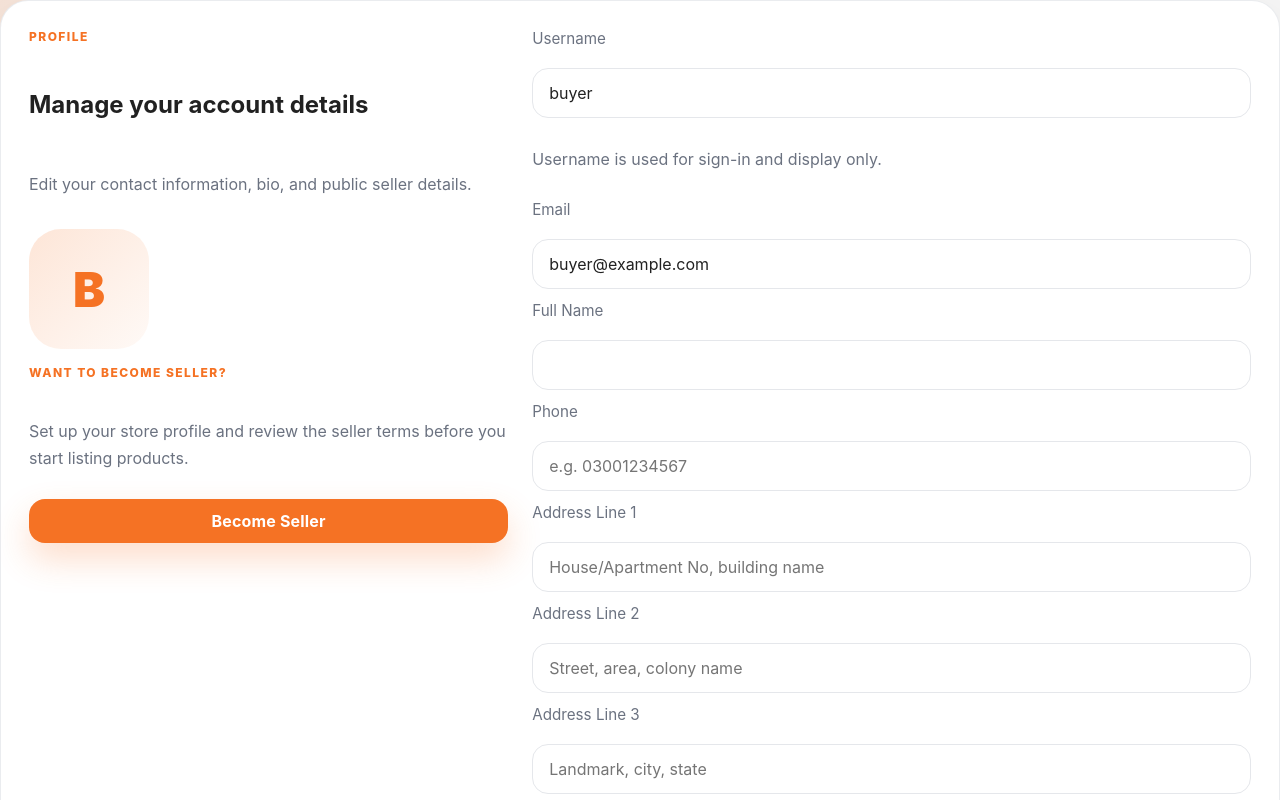
it: opens a seller onboarding modal with detailed fields
Click the button "Become Seller": (269, 521) [29,499,508,543]
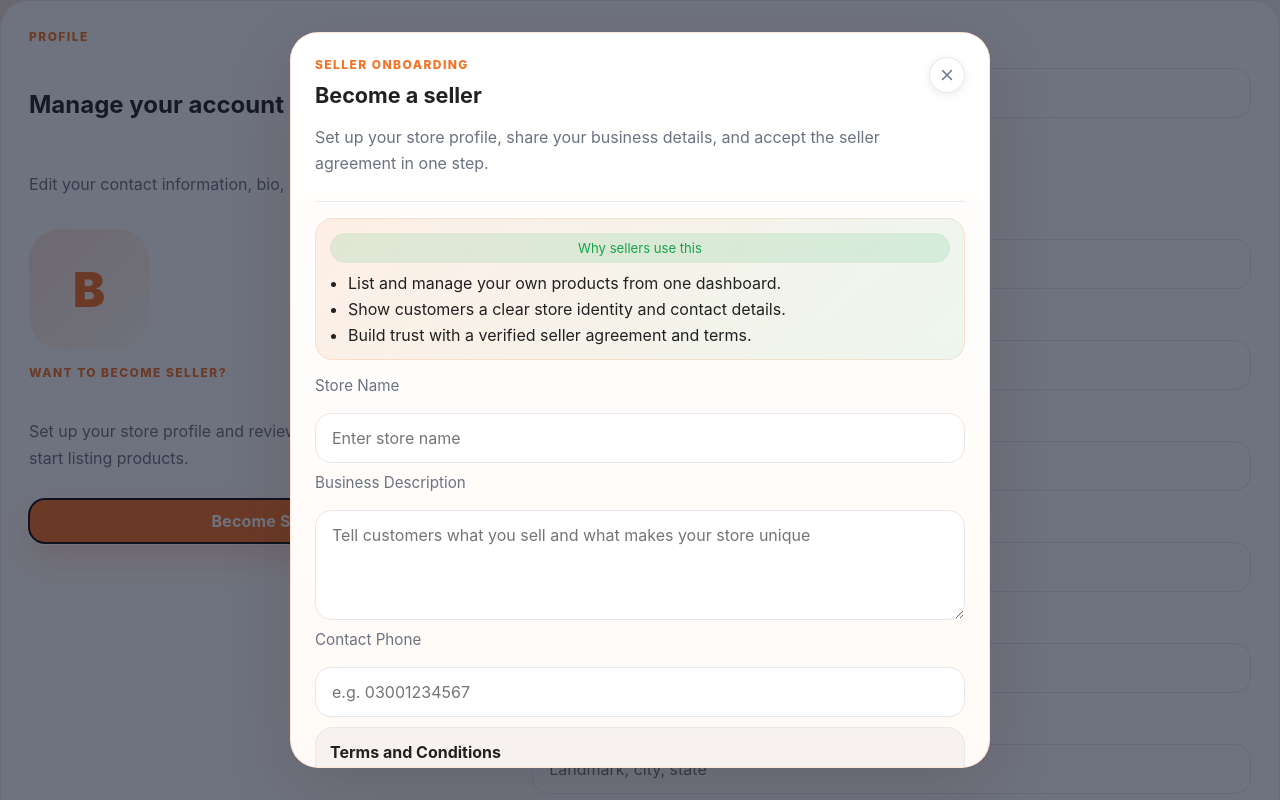
Now the text "Seller Onboarding" is shown, box [315,57,469,72]
Now the field labelled "Store Name" is shown, box [315,413,965,463]
Now the text box labelled "Business Description" is shown, box [315,510,965,620]
